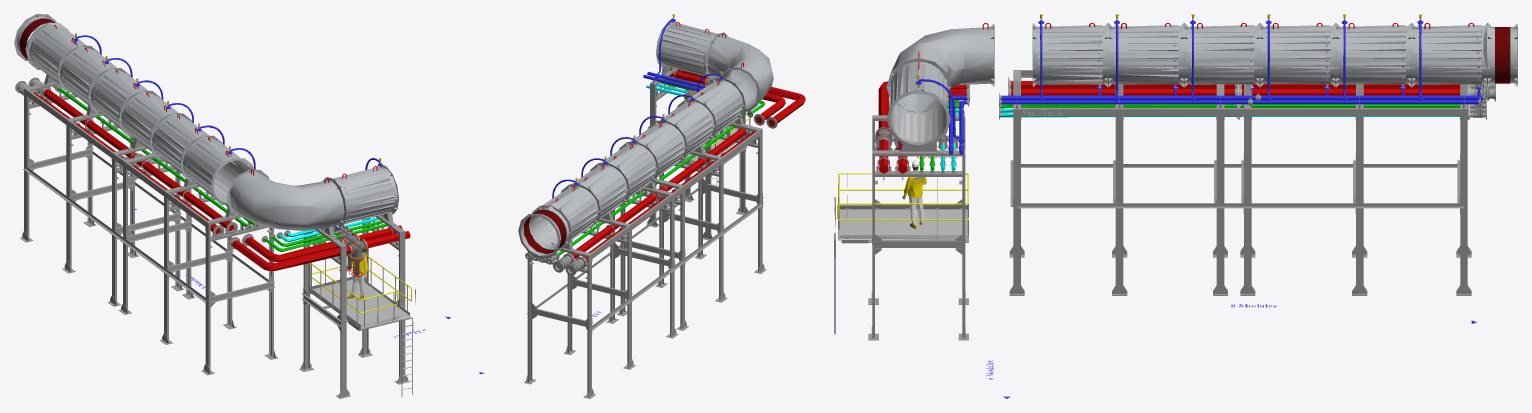
The picture shows the model from 3 angles, left to right: view 1: azimuth 30°, elevation 25°; view 2: azimuth 150°, elevation 25°; view 3: azimuth 270°, elevation 25°; orthographic projection. The views are drawn at different scales.
Parts seen in each view (by area): view 1: mesh-4, mesh-14, mesh-9, mesh-0, mesh-11, mesh-7, mesh-12; view 2: mesh-14, mesh-4, mesh-9, mesh-0, mesh-7; view 3: mesh-14, mesh-4, mesh-0, mesh-9, mesh-11.
Boxes of the visible parts, x1,y1,x2,y2 form: mesh-4: (15, 74, 411, 398); mesh-14: (14, 14, 398, 230); mesh-9: (33, 87, 411, 313); mesh-0: (19, 18, 450, 397); mesh-11: (310, 276, 411, 329); mesh-7: (29, 87, 398, 260); mesh-12: (335, 224, 366, 262); mesh-14: (518, 21, 773, 258); mesh-4: (524, 65, 777, 398); mesh-9: (541, 69, 805, 262); mesh-0: (479, 14, 743, 374); mesh-7: (531, 70, 756, 270); mesh-14: (886, 23, 1517, 148); mesh-4: (838, 70, 1495, 340); mesh-0: (834, 14, 1510, 398); mesh-9: (837, 81, 1460, 220); mesh-11: (838, 205, 968, 239).
Size of the model in its own units: 9.09 by 7.57 by 18.03.
